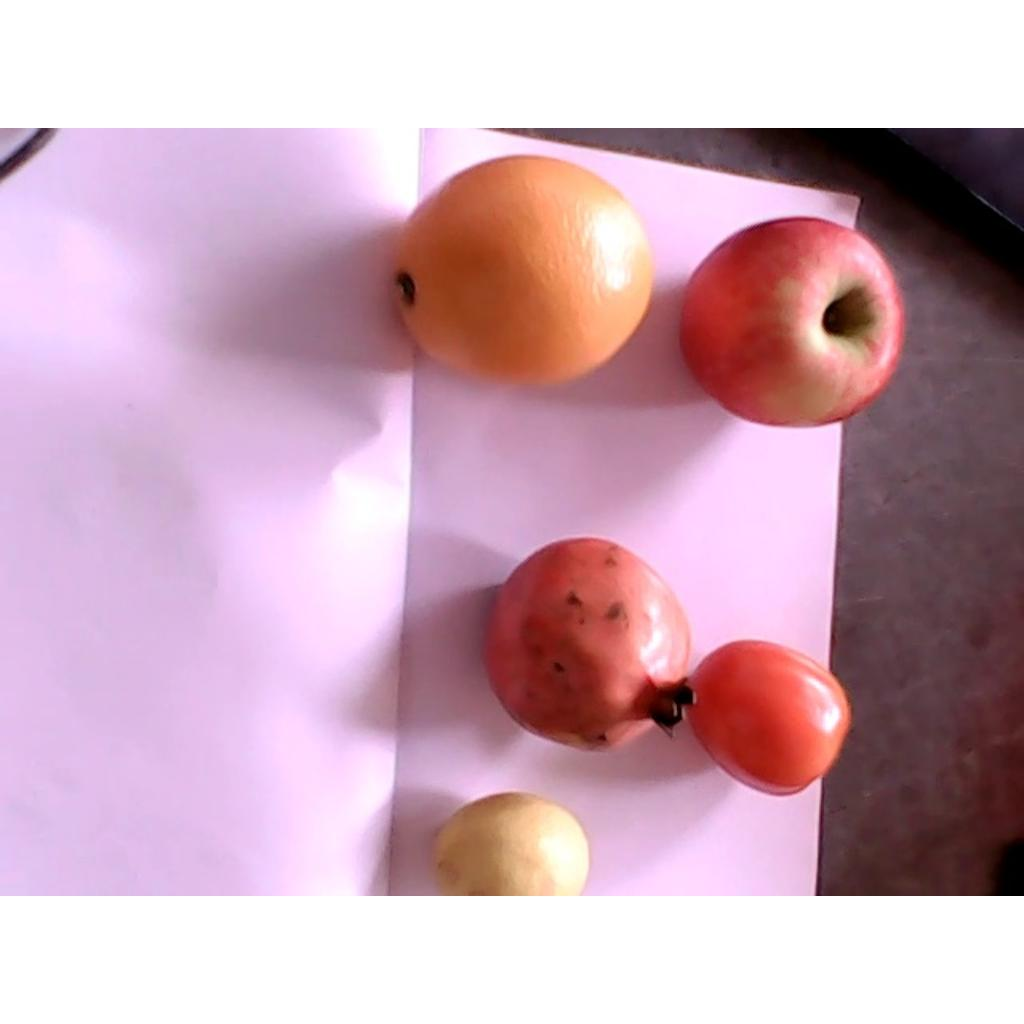apple: (679, 217, 903, 426)
lemon: (436, 792, 590, 894)
orange: (390, 157, 652, 387)
pomegranate: (483, 539, 696, 751)
tomato: (683, 640, 851, 796)
